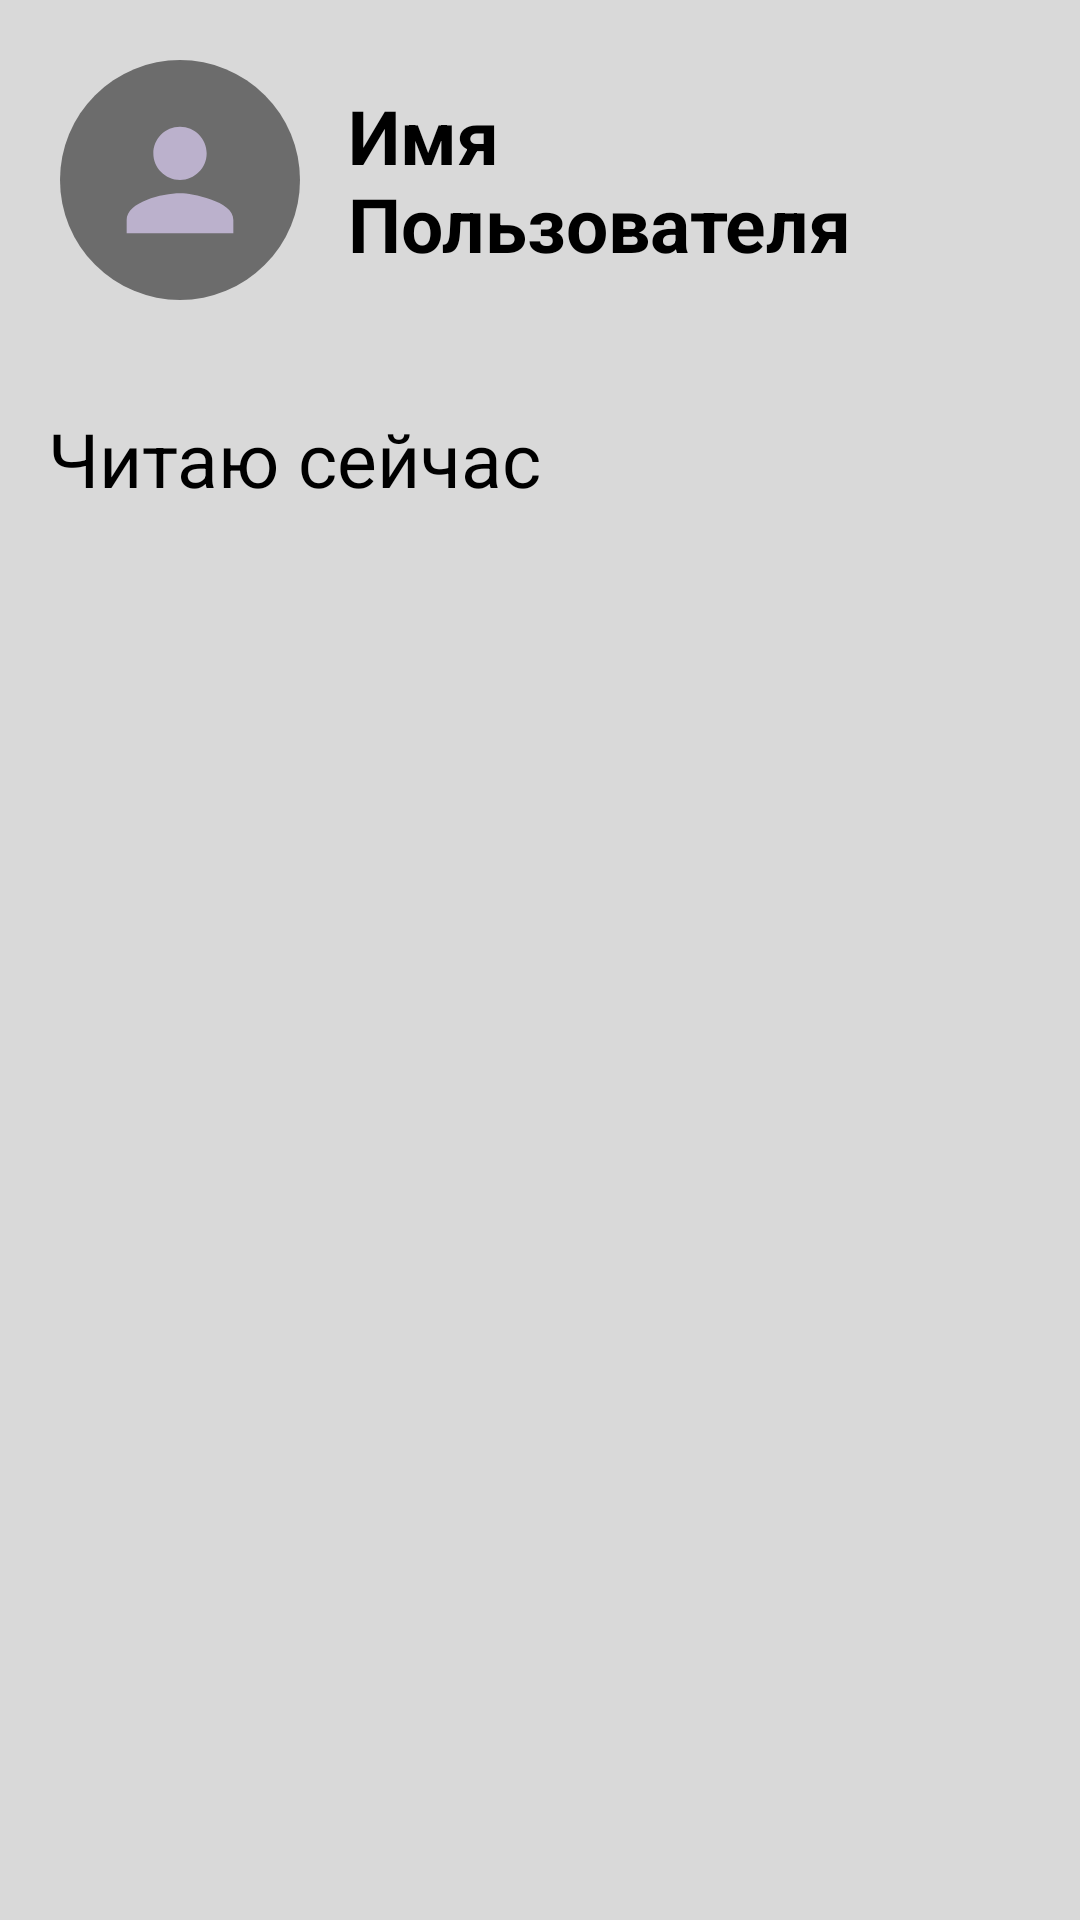

Icon click points for this 1080px x 1920px phone screenshot, format (x,y):
Профиль: (180,180)
